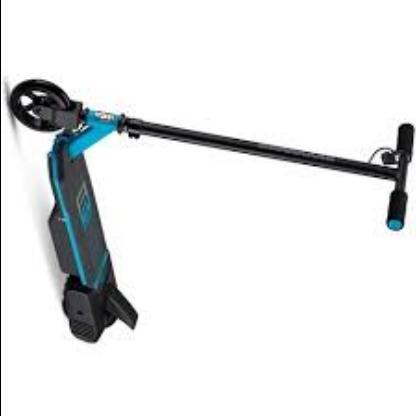bike: (10, 78, 415, 345)
